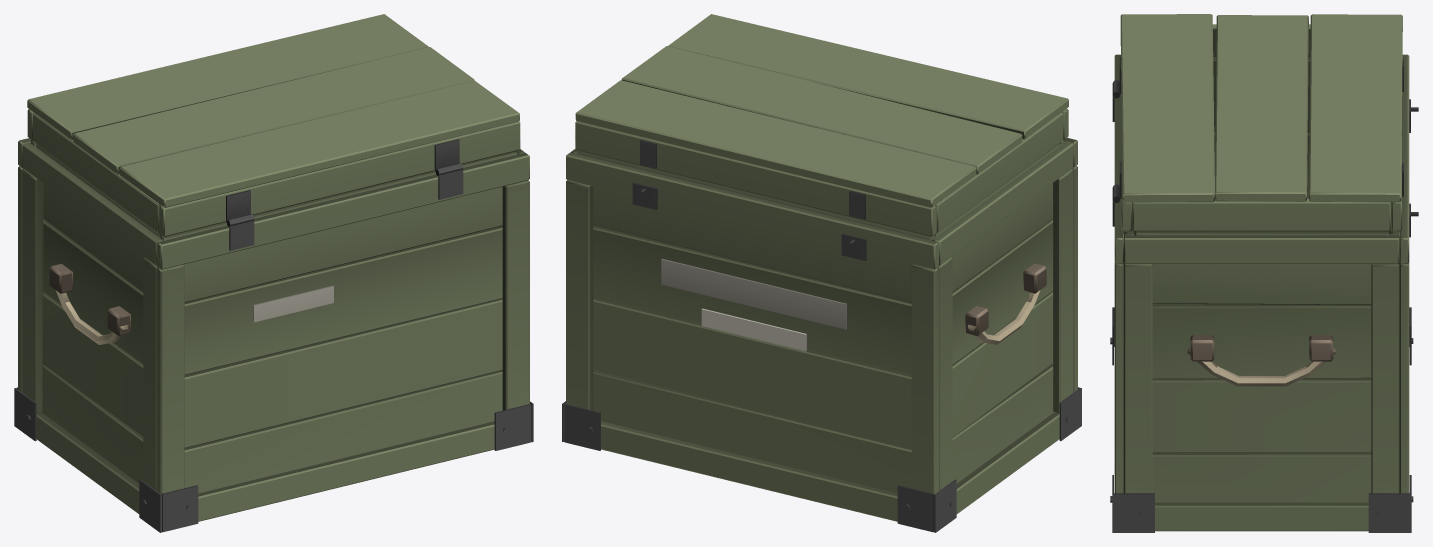
The model's file is supply_crate.glb.
3 views of the same model, side by side, from view 1: azimuth 30°, elevation 25°; view 2: azimuth 150°, elevation 25°; view 3: azimuth 270°, elevation 25° (orthographic). The views are drawn at different scales.
Parts seen in each view (by area): view 1: static; view 2: static; view 3: static.
Boxes of the visible parts, box(x1,y1,x2,y2) form: static: box(14, 14, 533, 532); static: box(562, 14, 1081, 532); static: box(1110, 14, 1418, 532).
Size of the model in its own units: 0.95 by 0.7831 by 0.649.
